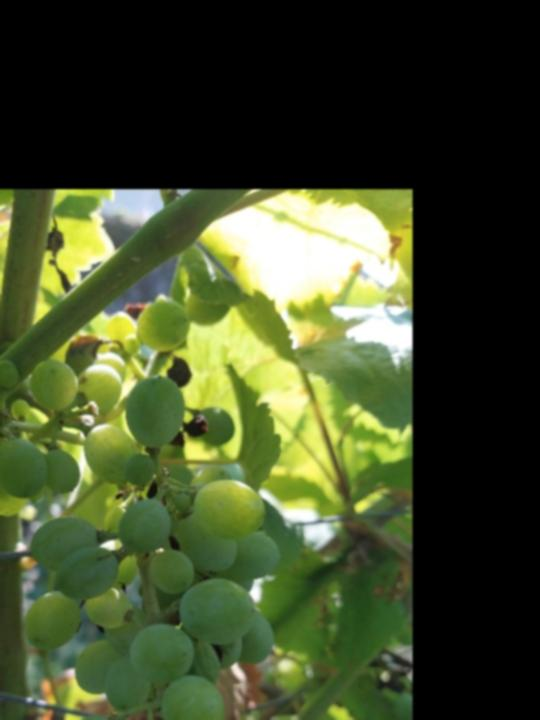grape: (0, 288, 281, 720)
